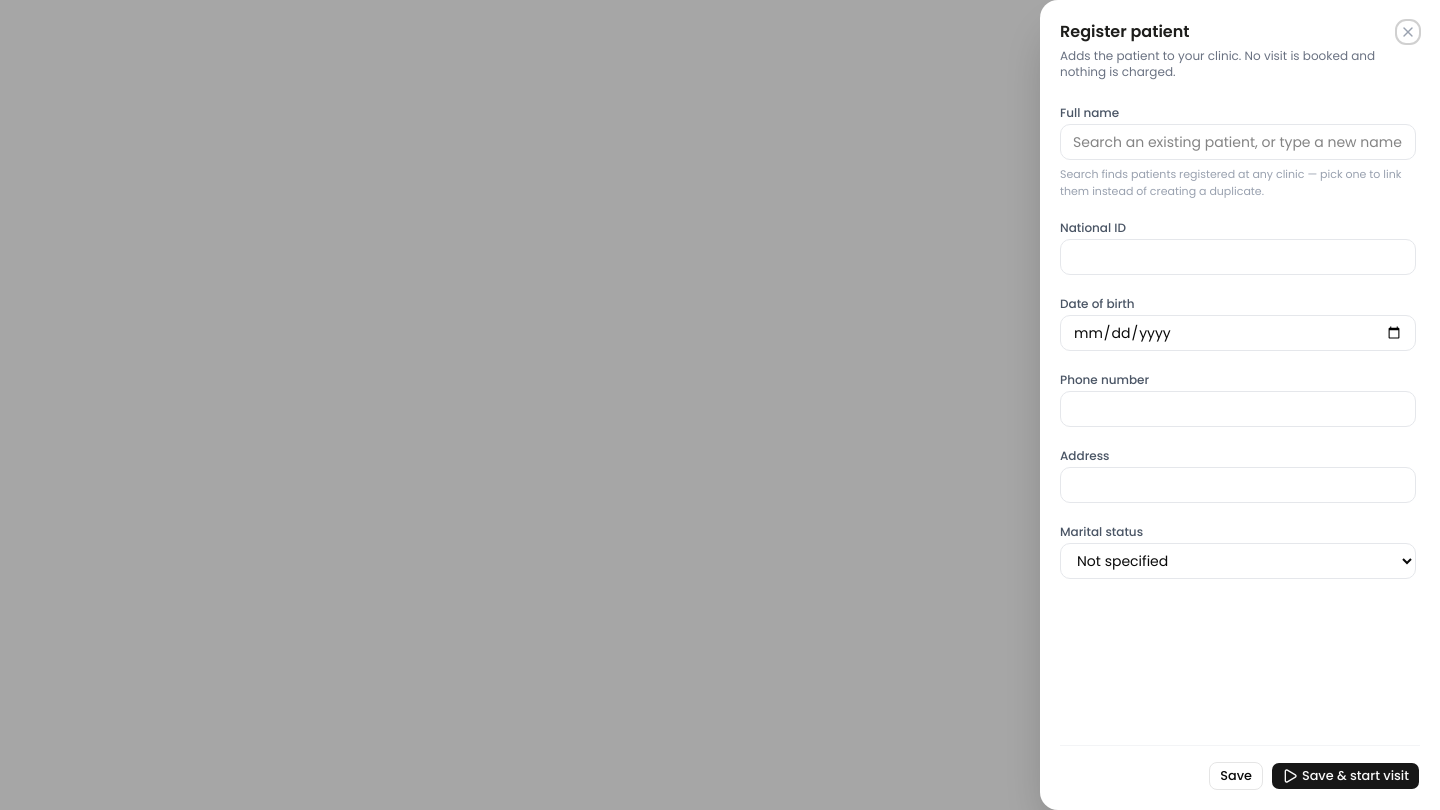
RegisterPatientDrawer › search-first name field › unlocks and reverts to create when the link is cleared
In the dropdown labelled "Full name": (1238,142) [1060,124,1416,160], type "Mona"
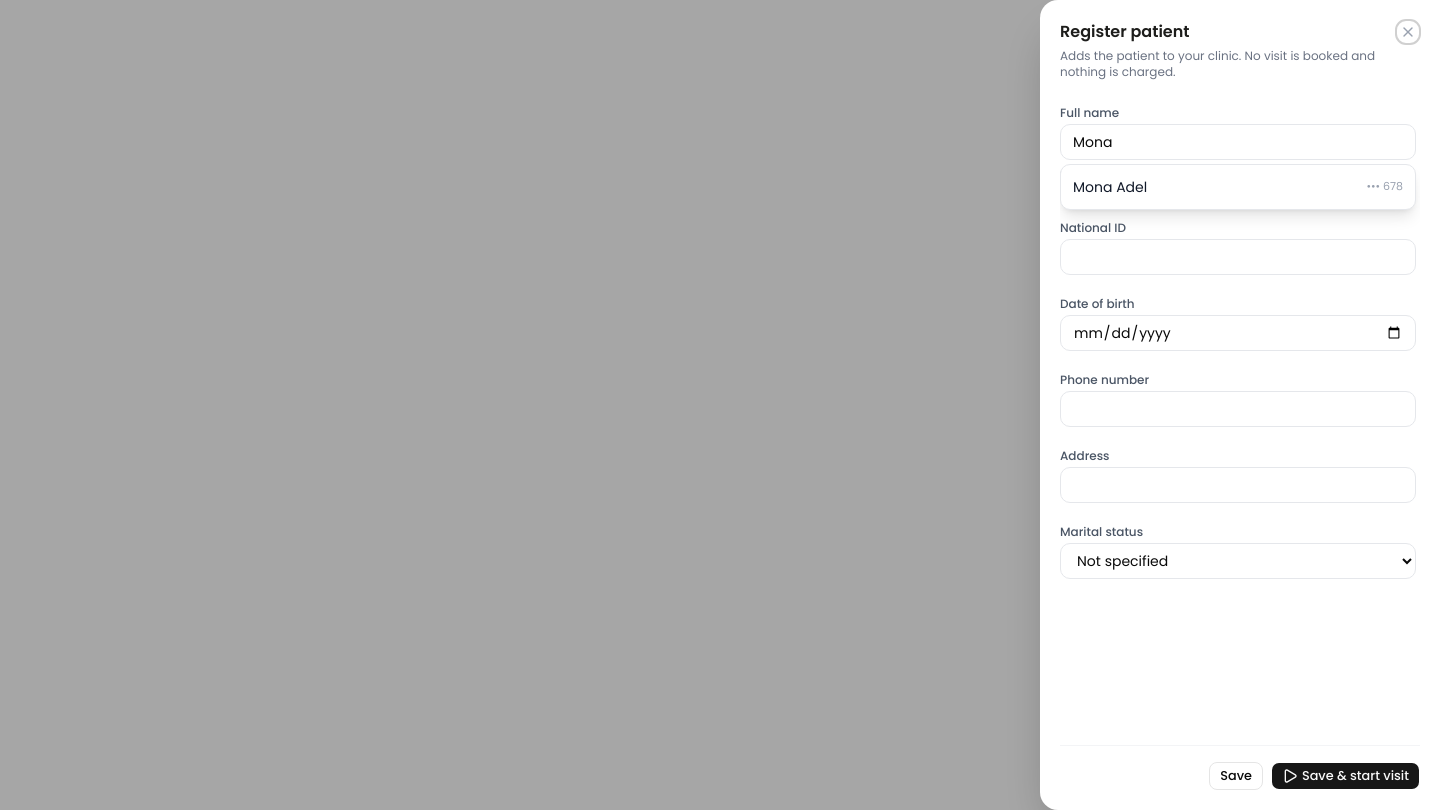
Press the mouse on the button "Mona Adel ••• 678": (1110,187) [1061,169,1415,205]
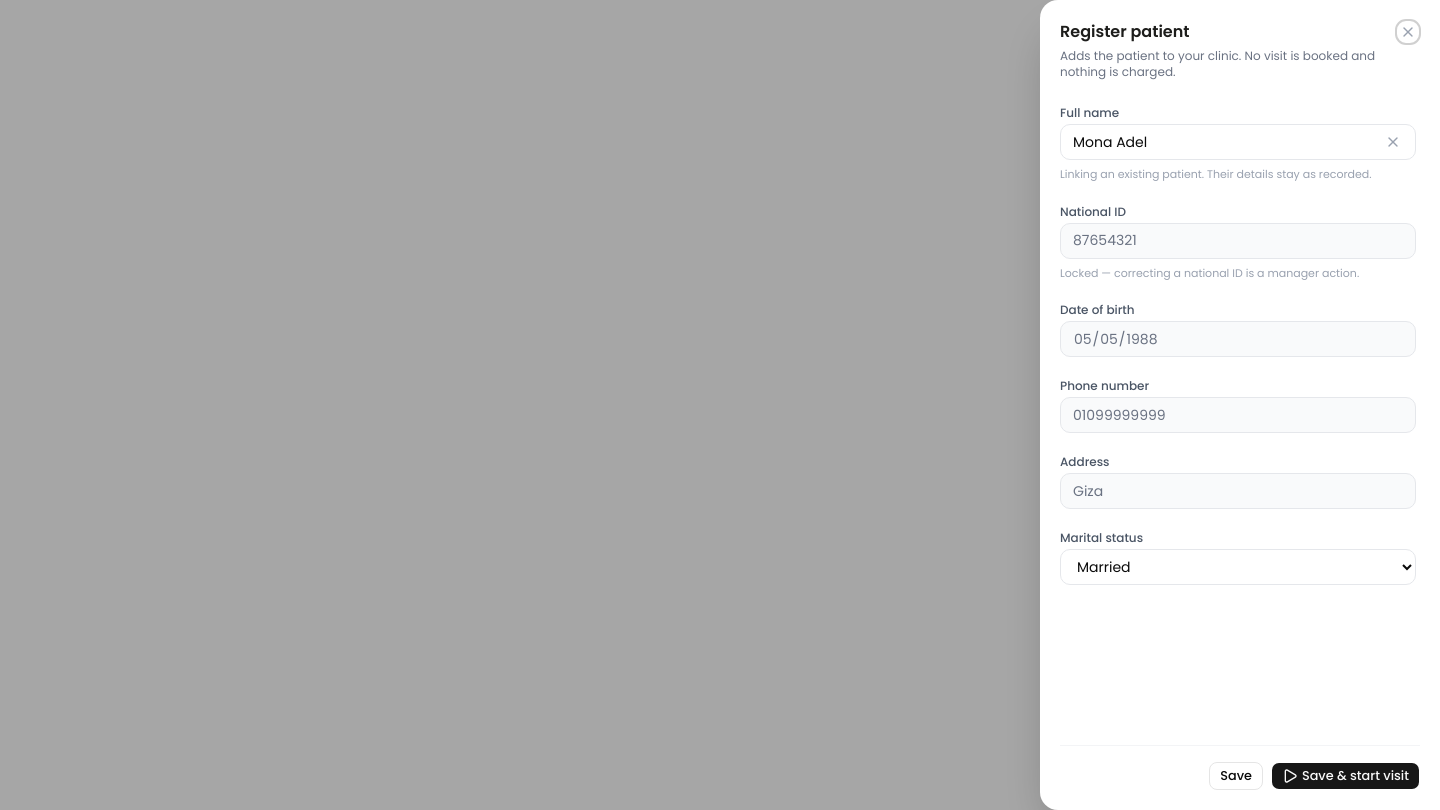
Expected: the element with test id "linked-patient" is shown, [1060,124,1416,160]
Click the button named "Unlink this patient": (1393,142) [1383,132,1403,152]
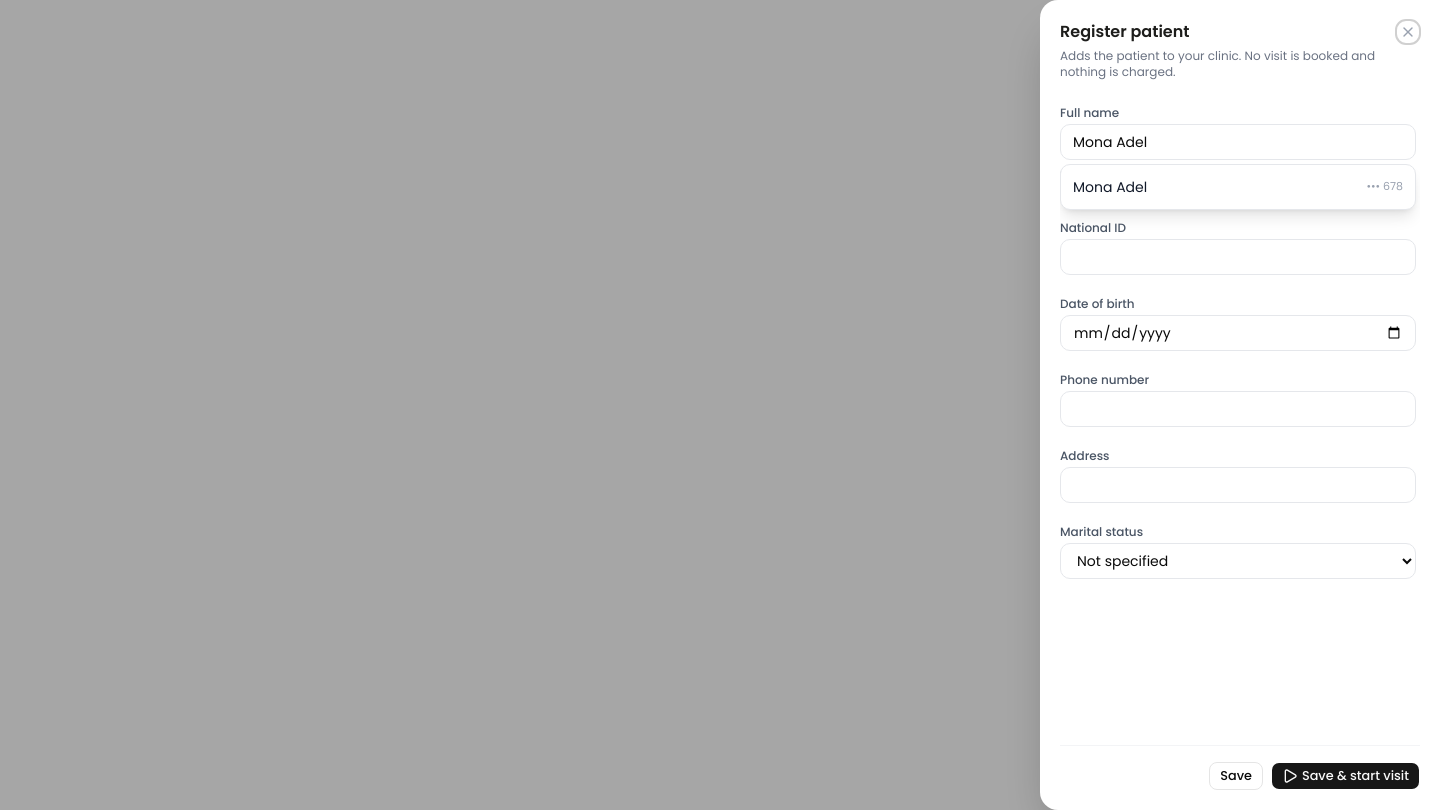
Expected: the field labelled "National ID" is enabled, [1060,239,1416,275]
Expected: the field labelled "National ID" is empty, [1060,239,1416,275]
